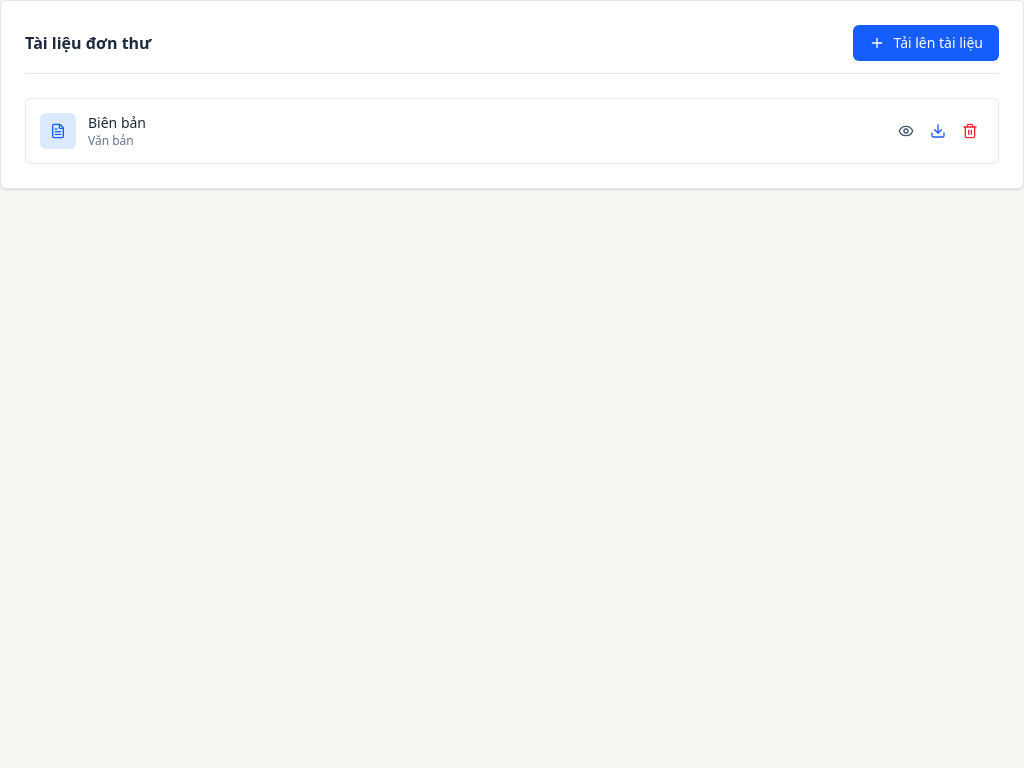
Test case: EntityDocumentsTab — chuyển sang chế độ xem khi form tải lên đang mở › khối "Thêm tài liệu mới" biến mất ngay, không để lại ô nhập hay nút tải lên dùng được
Expected: the text "Biên bản" is shown, [88,113,146,133]
Click the button with test id "btn-mo-tai-len" at (926, 43), box [854,25,999,61]
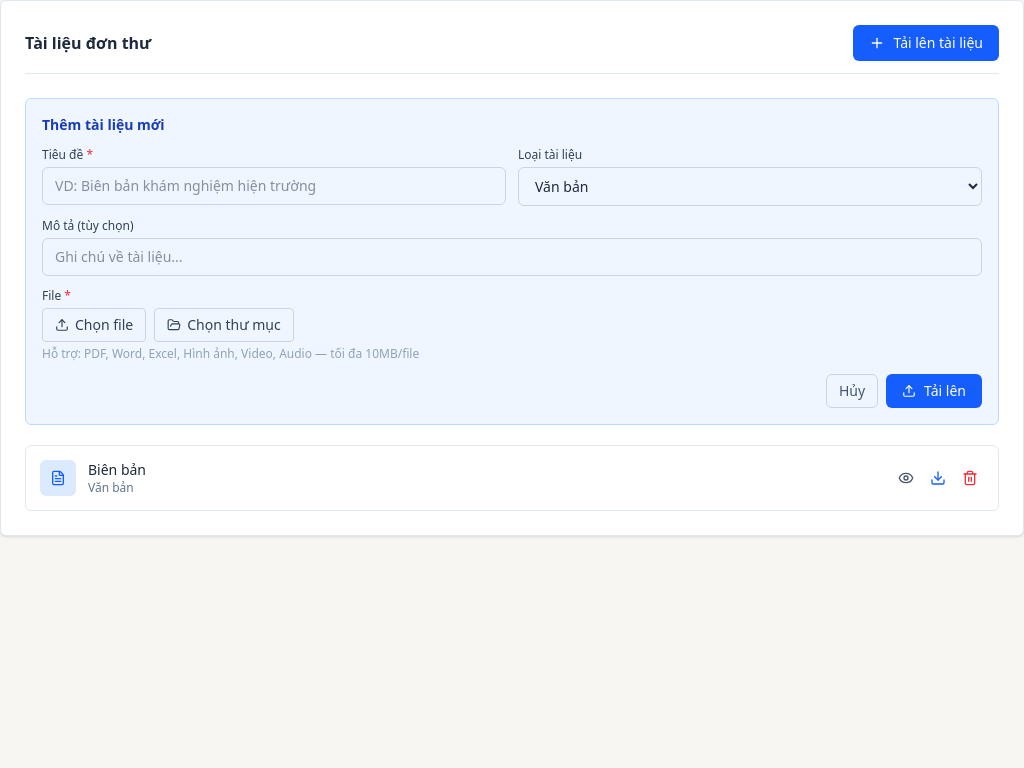
Expected: the text "Thêm tài liệu mới" is shown, [42,115,165,134]
